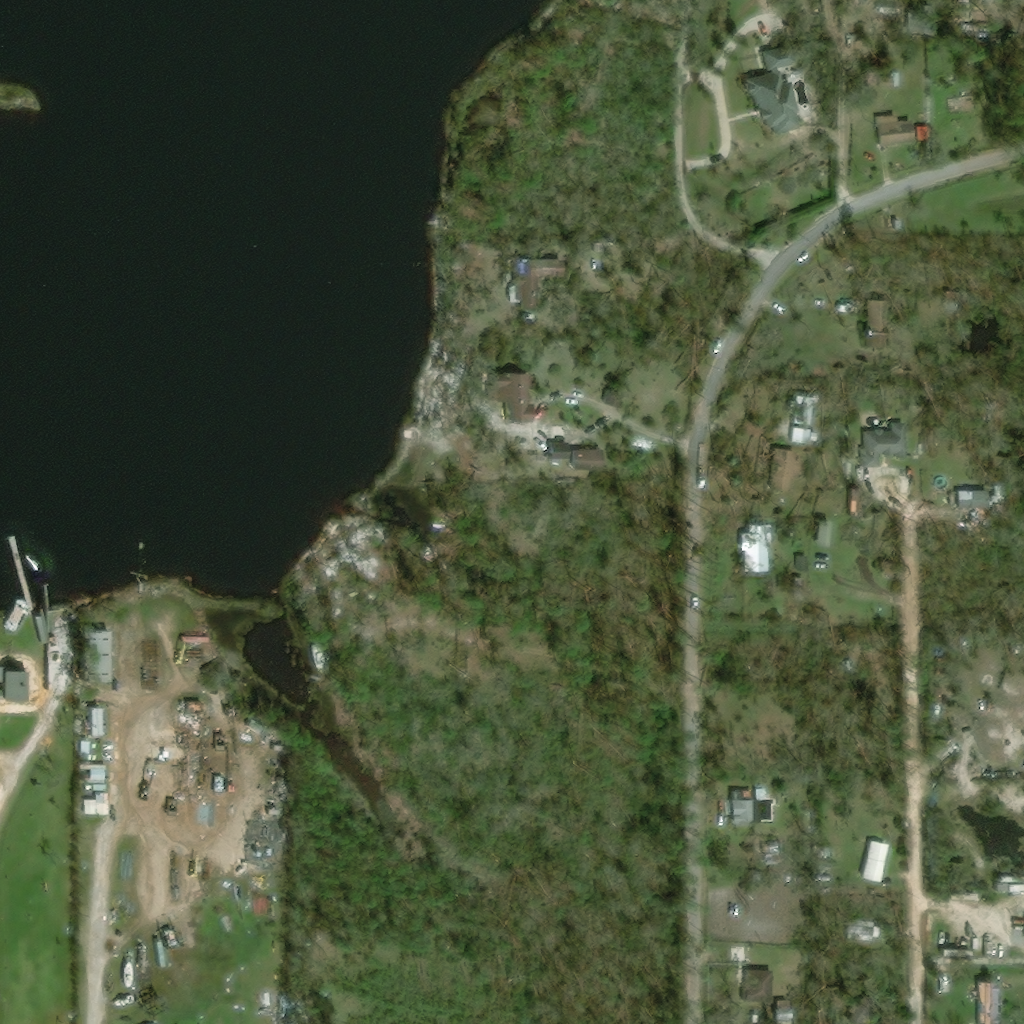destroyed: (175, 700, 208, 791), (245, 822, 288, 865), (243, 714, 283, 746)
minor_damage: (738, 524, 772, 573), (976, 978, 1000, 1023), (848, 918, 875, 949)
no_damage: (742, 43, 801, 134), (858, 420, 910, 469), (488, 369, 534, 421), (508, 256, 551, 305), (80, 629, 113, 681), (876, 114, 917, 155), (861, 840, 889, 883), (780, 423, 823, 448), (850, 993, 884, 1023), (727, 796, 754, 827), (864, 66, 900, 87), (0, 667, 23, 699), (788, 399, 816, 425), (83, 790, 109, 816), (81, 708, 104, 737), (815, 518, 835, 550), (751, 839, 776, 860), (603, 387, 624, 410), (551, 424, 571, 445), (836, 305, 857, 322), (794, 555, 812, 573), (822, 853, 835, 869), (80, 737, 91, 754), (89, 769, 105, 780), (778, 528, 788, 535)
